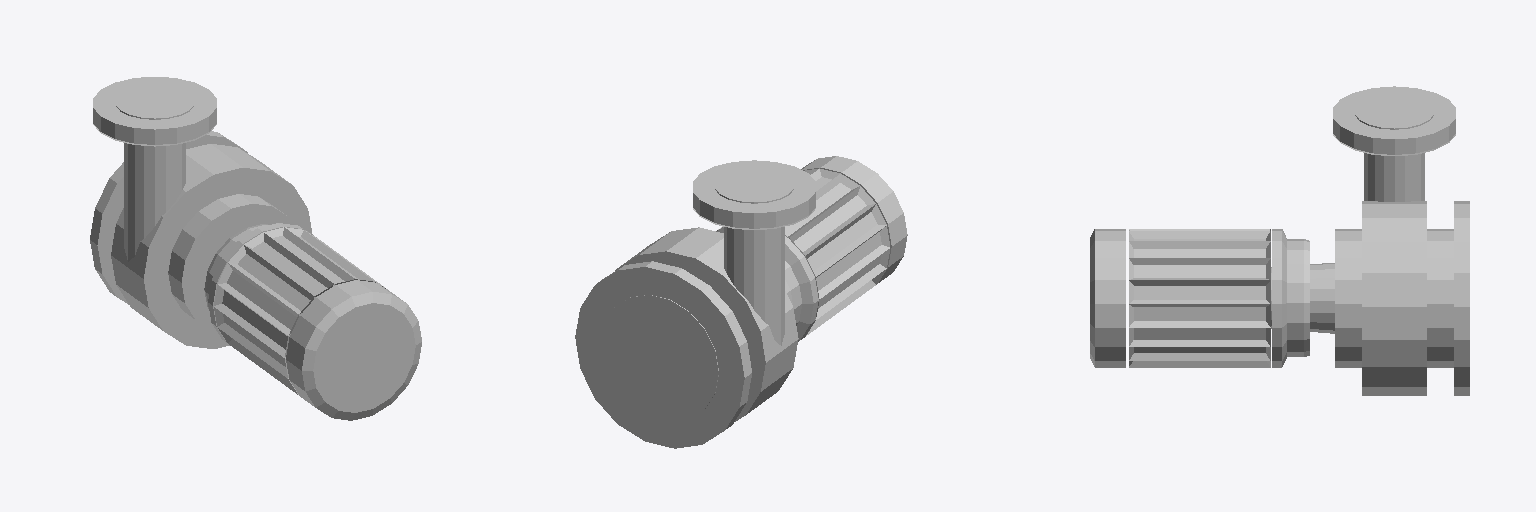
The model's file is 冷却泵.obj.
3 views of the same model, side by side, from view 1: azimuth 30°, elevation 25°; view 2: azimuth 150°, elevation 25°; view 3: azimuth 270°, elevation 25° (orthographic).
Visible parts, largest first — view 1: Cylinder265, Cylinder264, Cylinder271, Cylinder270, Cylinder272, Cylinder273, Cylinder276, Cylinder275, Cylinder266; view 2: Cylinder276, Cylinder277, Cylinder264, Cylinder271, Cylinder272, Cylinder273, Cylinder265, Cylinder275, Cylinder266; view 3: Cylinder264, Cylinder271, Cylinder270, Cylinder265, Cylinder273, Cylinder266, Cylinder276, Cylinder272, Cylinder275, Cylinder268.
Boxes of the visible parts, x1=… form: Cylinder265: x1=286, y1=280, x2=421, y2=420; Cylinder264: x1=214, y1=227, x2=387, y2=394; Cylinder271: x1=111, y1=144, x2=312, y2=348; Cylinder270: x1=168, y1=194, x2=292, y2=330; Cylinder272: x1=124, y1=143, x2=185, y2=261; Cylinder273: x1=93, y1=77, x2=216, y2=144; Cylinder276: x1=90, y1=131, x2=247, y2=304; Cylinder275: x1=116, y1=85, x2=193, y2=119; Cylinder266: x1=204, y1=223, x2=316, y2=342; Cylinder276: x1=575, y1=261, x2=751, y2=448; Cylinder277: x1=601, y1=295, x2=718, y2=421; Cylinder264: x1=717, y1=168, x2=889, y2=336; Cylinder271: x1=615, y1=227, x2=798, y2=421; Cylinder272: x1=724, y1=227, x2=784, y2=345; Cylinder273: x1=693, y1=160, x2=815, y2=228; Cylinder265: x1=789, y1=156, x2=907, y2=283; Cylinder275: x1=715, y1=169, x2=793, y2=203; Cylinder266: x1=716, y1=227, x2=818, y2=341; Cylinder264: x1=1129, y1=229, x2=1270, y2=367; Cylinder271: x1=1362, y1=201, x2=1426, y2=395; Cylinder270: x1=1335, y1=229, x2=1453, y2=367; Cylinder265: x1=1090, y1=229, x2=1125, y2=367; Cylinder273: x1=1333, y1=86, x2=1455, y2=154; Cylinder266: x1=1272, y1=229, x2=1309, y2=367; Cylinder276: x1=1454, y1=201, x2=1469, y2=395; Cylinder272: x1=1364, y1=153, x2=1424, y2=201; Cylinder275: x1=1355, y1=95, x2=1433, y2=129; Cylinder268: x1=1271, y1=263, x2=1334, y2=333.
Bounding box in the file's own units: 54.97 × 65.88 × 92.37.